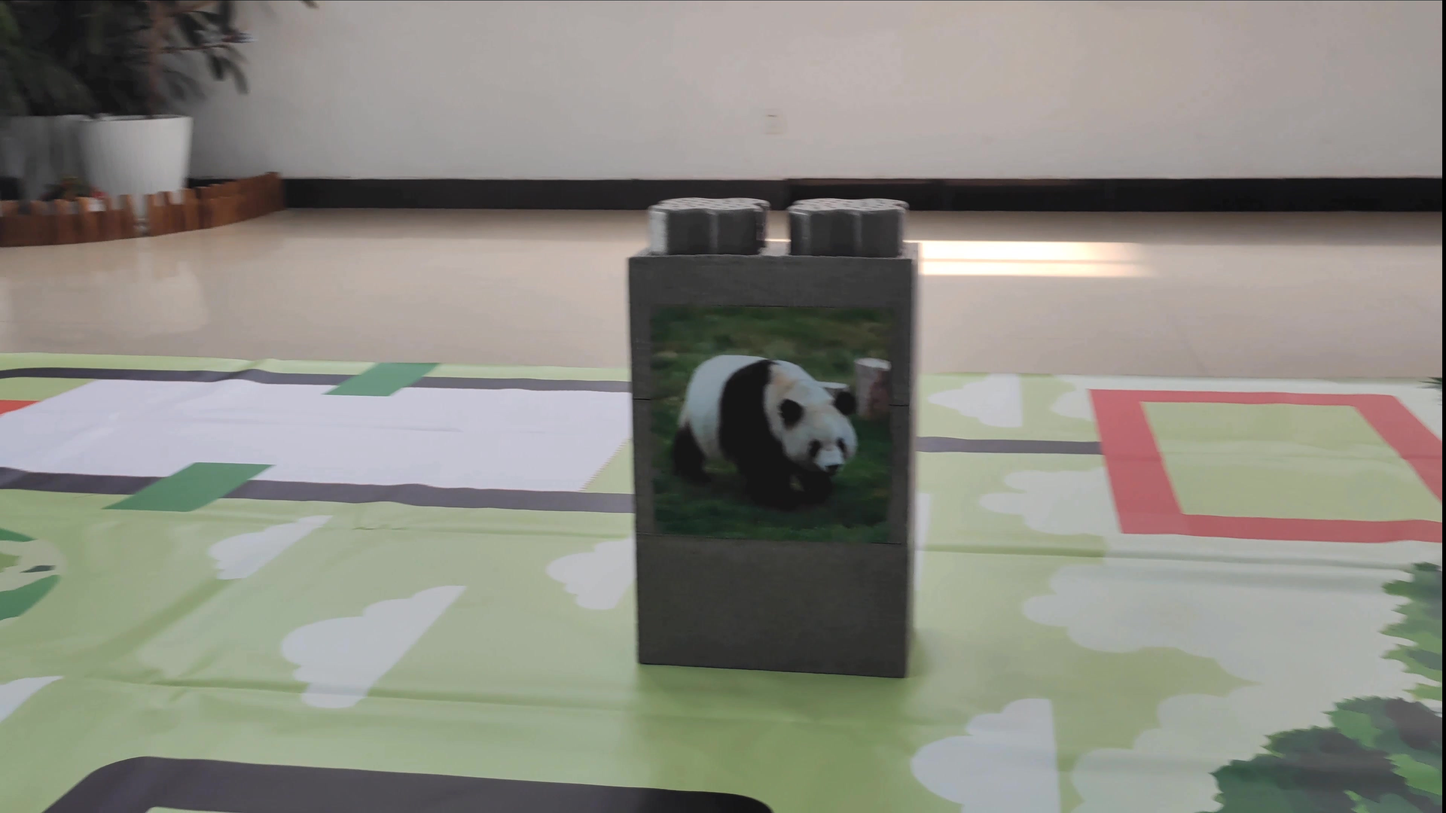panda: (647, 341, 873, 531)
